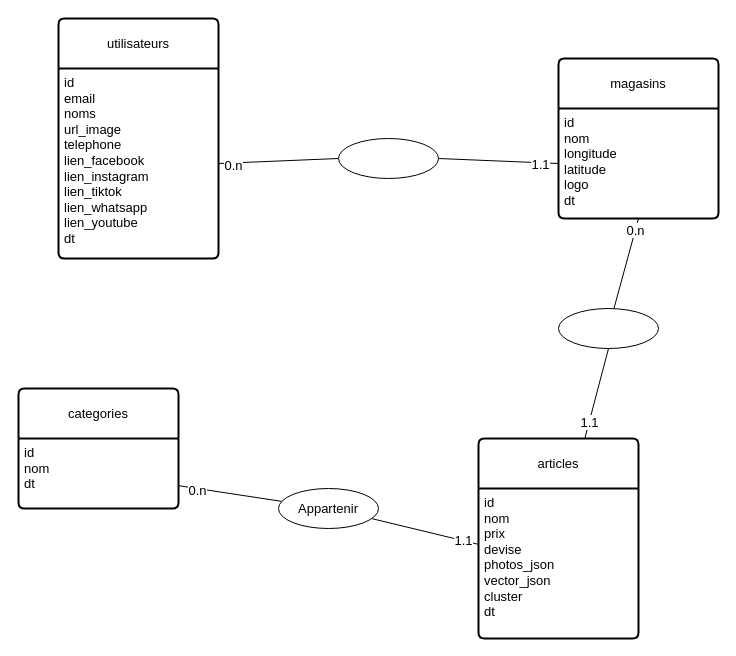
This 736x656 diagram has some shape labels left out. The centre of each missing label's shape, as x and y in pixels:
"Contenir" belongs at pixel 608 328.
"Gérer" belongs at pixel 388 158.
